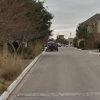Tree: (2, 0, 54, 52)
